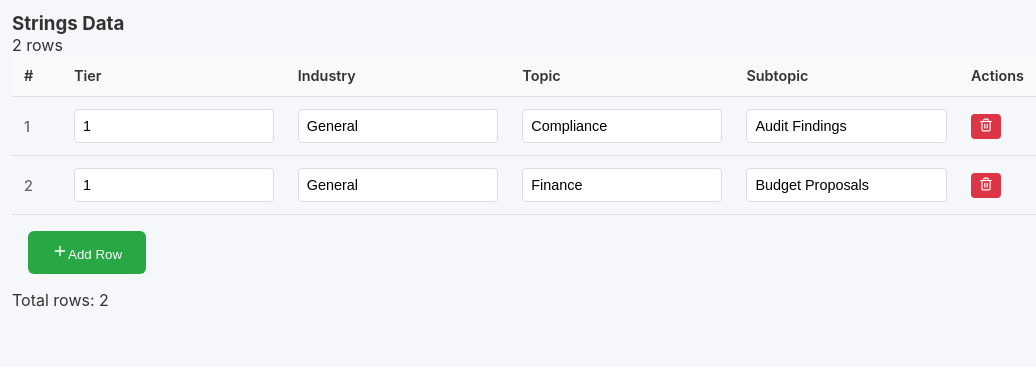
it: EditableTable › allows cell editing
Replace the text in the 3rd field showing "Compliance" with "Updated Compliance" at {"x": 622, "y": 126}, box [522, 109, 722, 143]
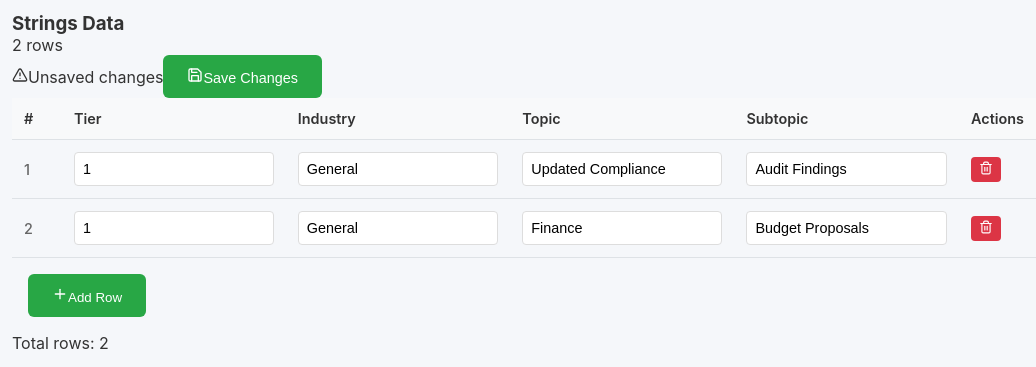
expect the text "Unsaved changes" is shown: met, box [28, 67, 164, 87]
